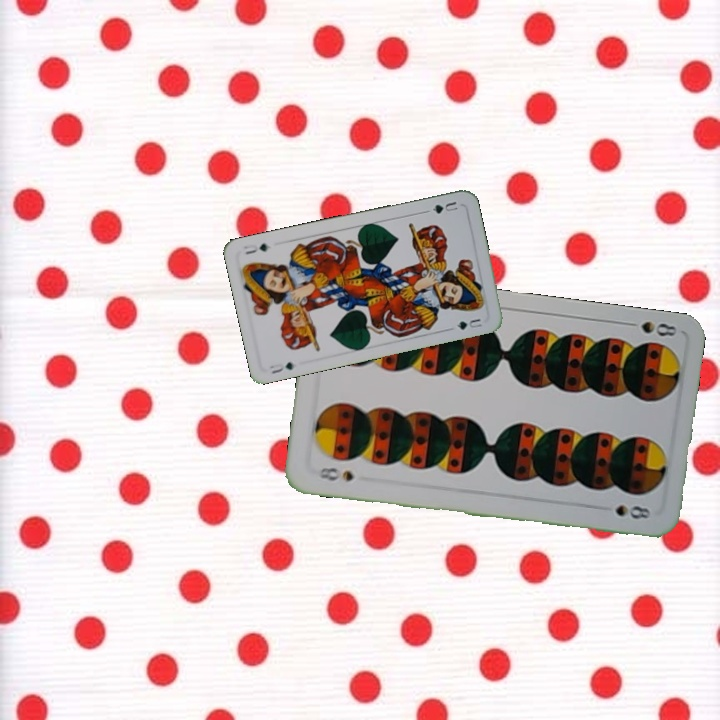GU: (428, 197, 461, 216), (266, 358, 297, 376)
S8: (621, 317, 680, 339), (309, 463, 356, 484)
